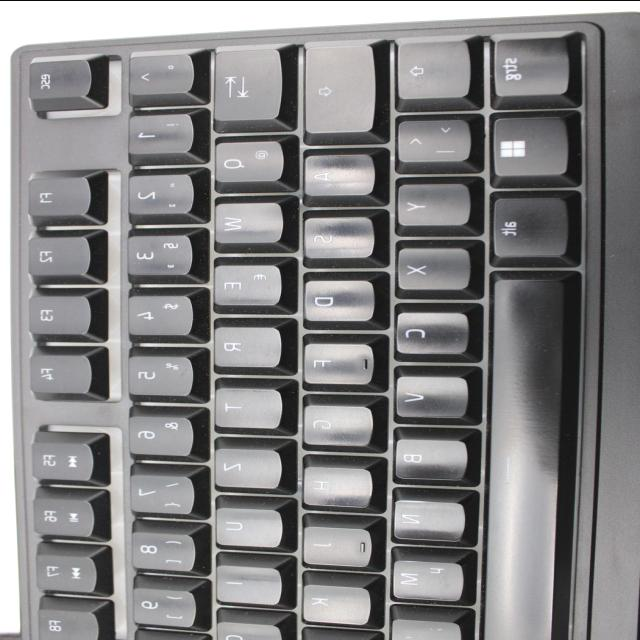1: (124, 112, 194, 153)
2: (123, 170, 193, 214)
3: (122, 231, 194, 275)
4: (123, 292, 193, 336)
5: (122, 352, 194, 396)
6: (122, 413, 194, 456)
7: (123, 472, 197, 514)
8: (125, 529, 197, 571)
9: (127, 585, 197, 627)
a: (297, 151, 375, 195)
alt-left: (486, 192, 572, 258)
b: (388, 436, 468, 480)
c: (390, 308, 469, 354)
caret: (124, 52, 194, 94)
comma: (384, 617, 462, 640)
d: (298, 275, 374, 321)
e: (208, 261, 282, 305)
f: (298, 340, 374, 384)
g: (297, 402, 373, 446)
h: (297, 464, 372, 507)
i: (210, 563, 282, 604)
j: (296, 523, 371, 565)
k: (296, 583, 370, 624)
keyboard: (0, 10, 640, 640)
less: (390, 117, 471, 162)
m: (385, 558, 463, 600)
n: (387, 498, 465, 540)
o: (210, 620, 282, 640)
q: (208, 137, 286, 183)
r: (208, 324, 282, 368)
s: (297, 213, 375, 257)
shift-left: (393, 37, 472, 101)
shift-lock: (298, 40, 378, 134)
space: (478, 267, 563, 640)
strg-left: (489, 35, 571, 97)
t: (209, 386, 283, 428)
tab: (207, 45, 284, 123)
u: (209, 505, 283, 547)
v: (389, 374, 467, 418)
w: (207, 200, 283, 243)
x: (391, 245, 471, 290)
y: (390, 180, 470, 225)
z: (207, 446, 282, 488)
